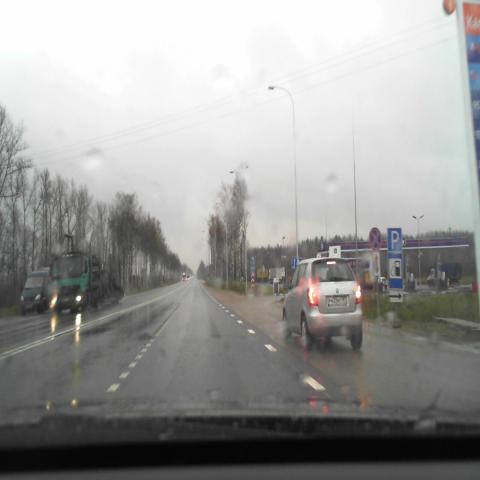3_27: (369, 228, 382, 251)
6_4: (387, 227, 402, 252)
7_3: (388, 253, 403, 290)
8_3_1: (390, 291, 402, 302)
